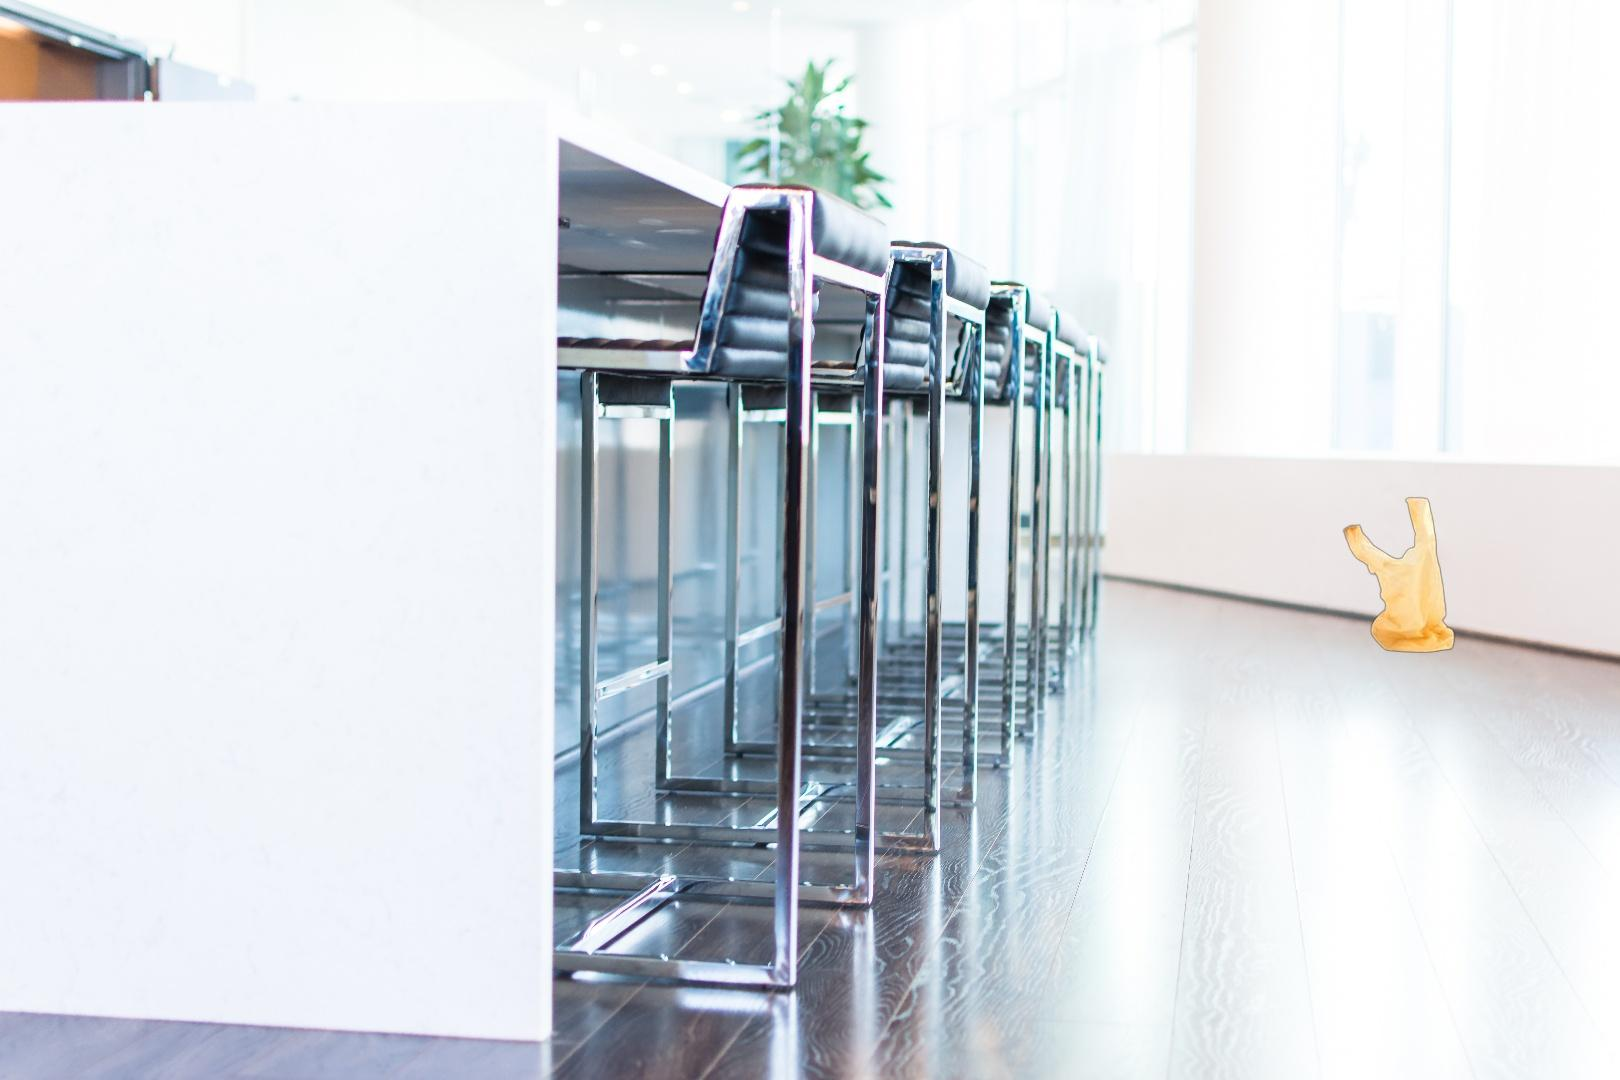plastic-bag: (1342, 495, 1458, 656)
